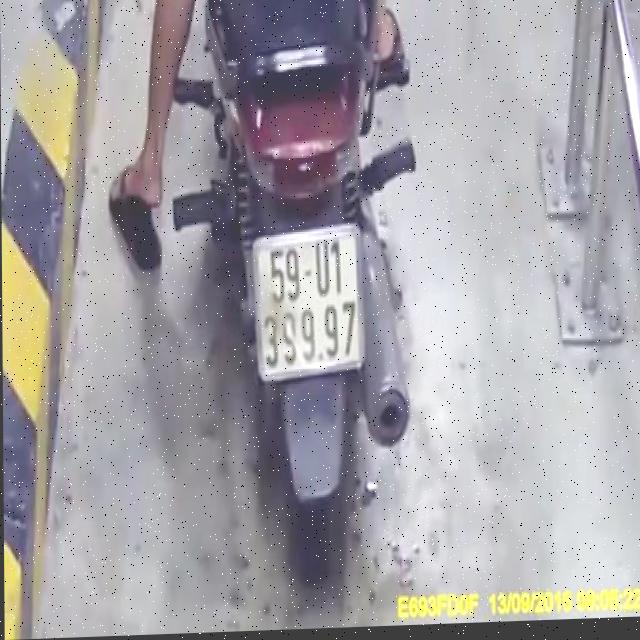motorcycle: (164, 0, 441, 592)
plate: (247, 227, 370, 382)
